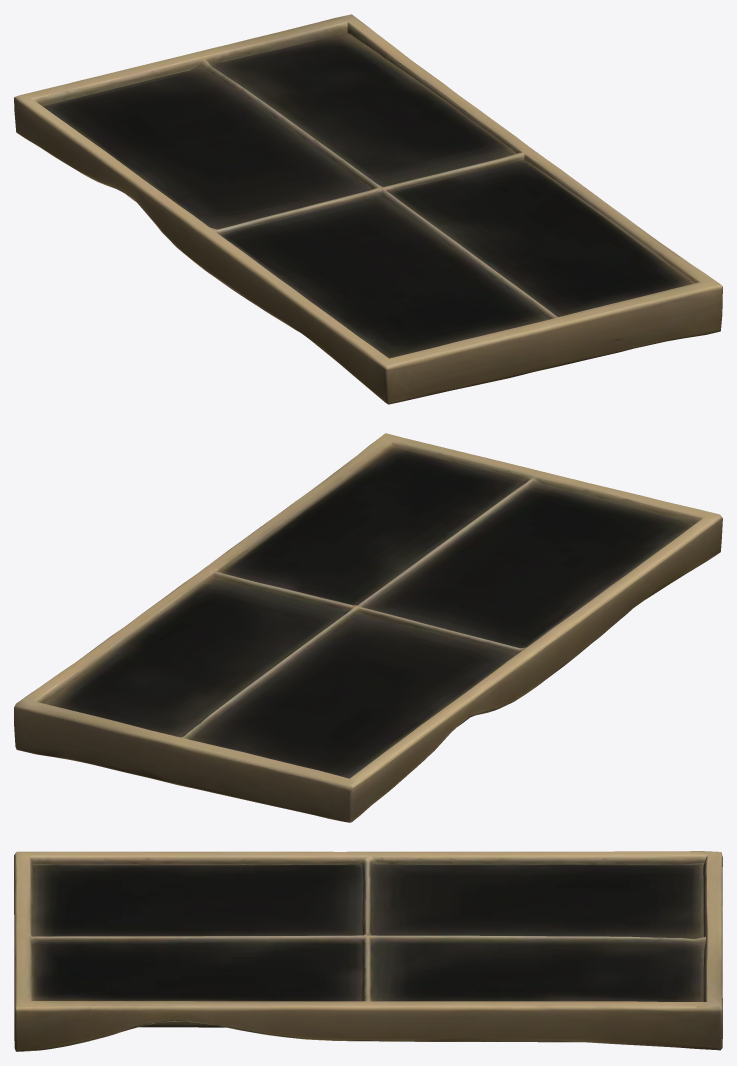
The model's file is m2RunwayPlatform.glb.
3 views of the same model, one above another, from view 1: azimuth 30°, elevation 25°; view 2: azimuth 150°, elevation 25°; view 3: azimuth 270°, elevation 25° (orthographic). The views are drawn at different scales.
Parts seen in each view (by area): view 1: model; view 2: model; view 3: model.
Part boxes in pixels (bbox=[...]): model: bbox=[14, 14, 722, 404]; model: bbox=[14, 433, 722, 822]; model: bbox=[14, 851, 722, 1051].
Bounding box in the file's own units: 1 × 0.1354 × 1.9.
Materials: 1 (1 with a texture image).
